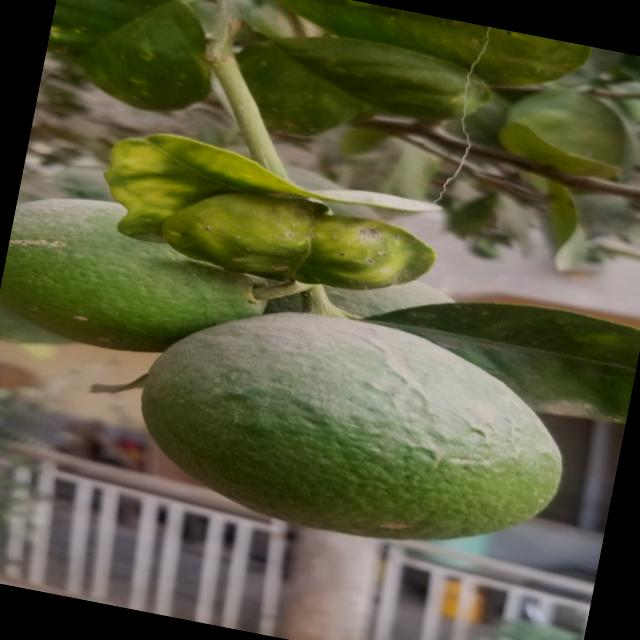Unripe: (97, 268, 612, 600)
